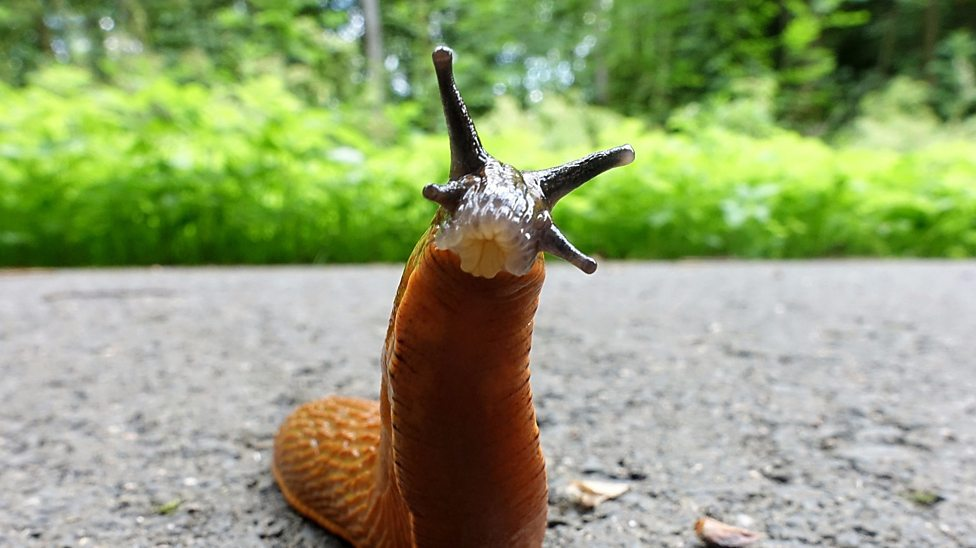slug: (250, 39, 625, 548)
